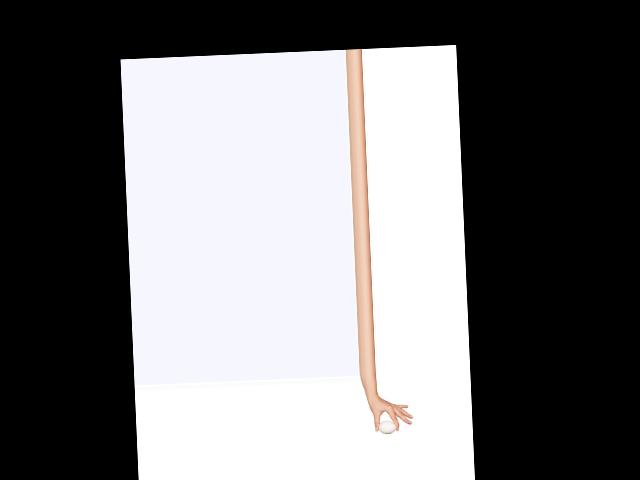egg: (378, 420, 396, 435)
